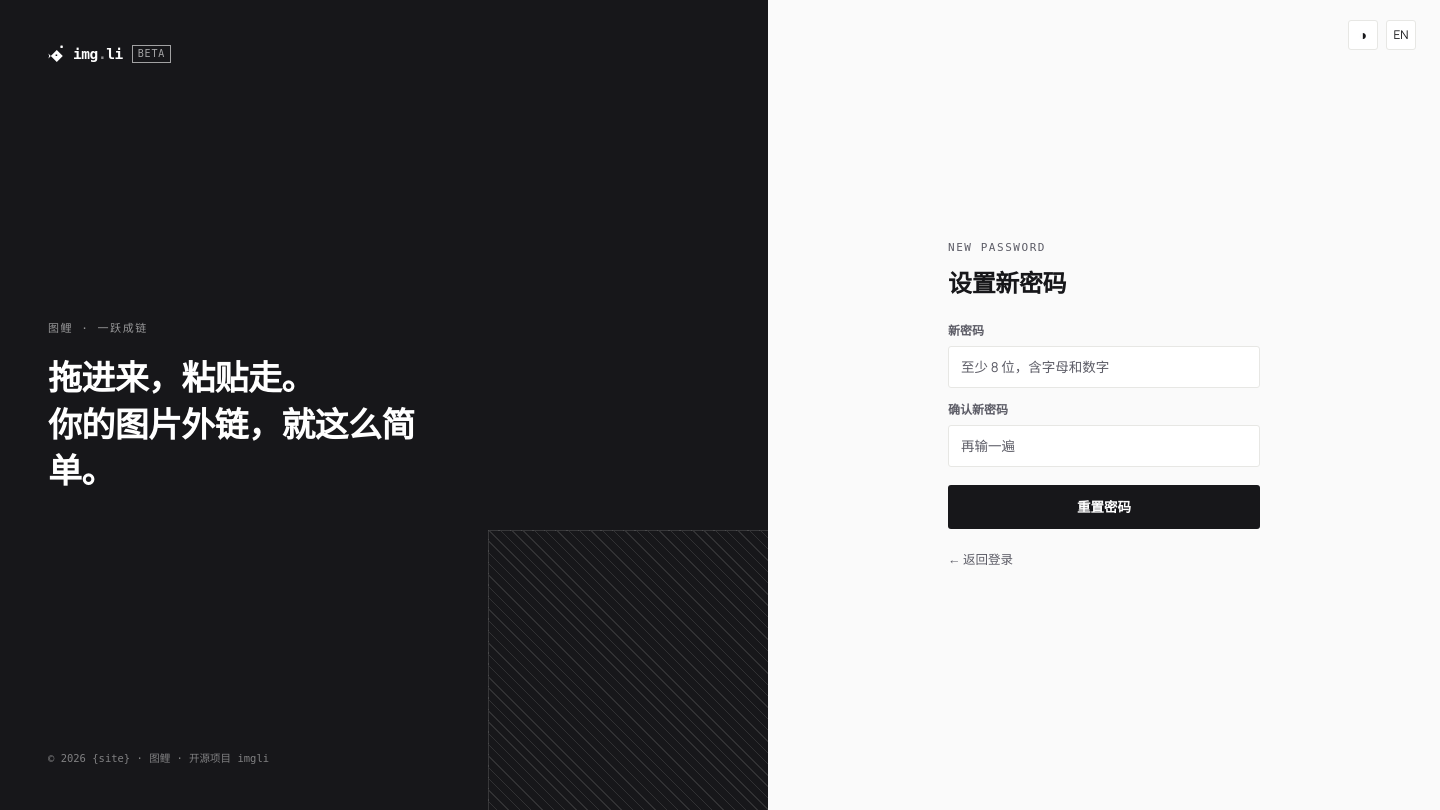
Test: 重置密码:读 token 提交,成功引导去登录
Type "newpass-111" into the password field labelled "新密码" at (1104, 367), box [948, 346, 1260, 388]
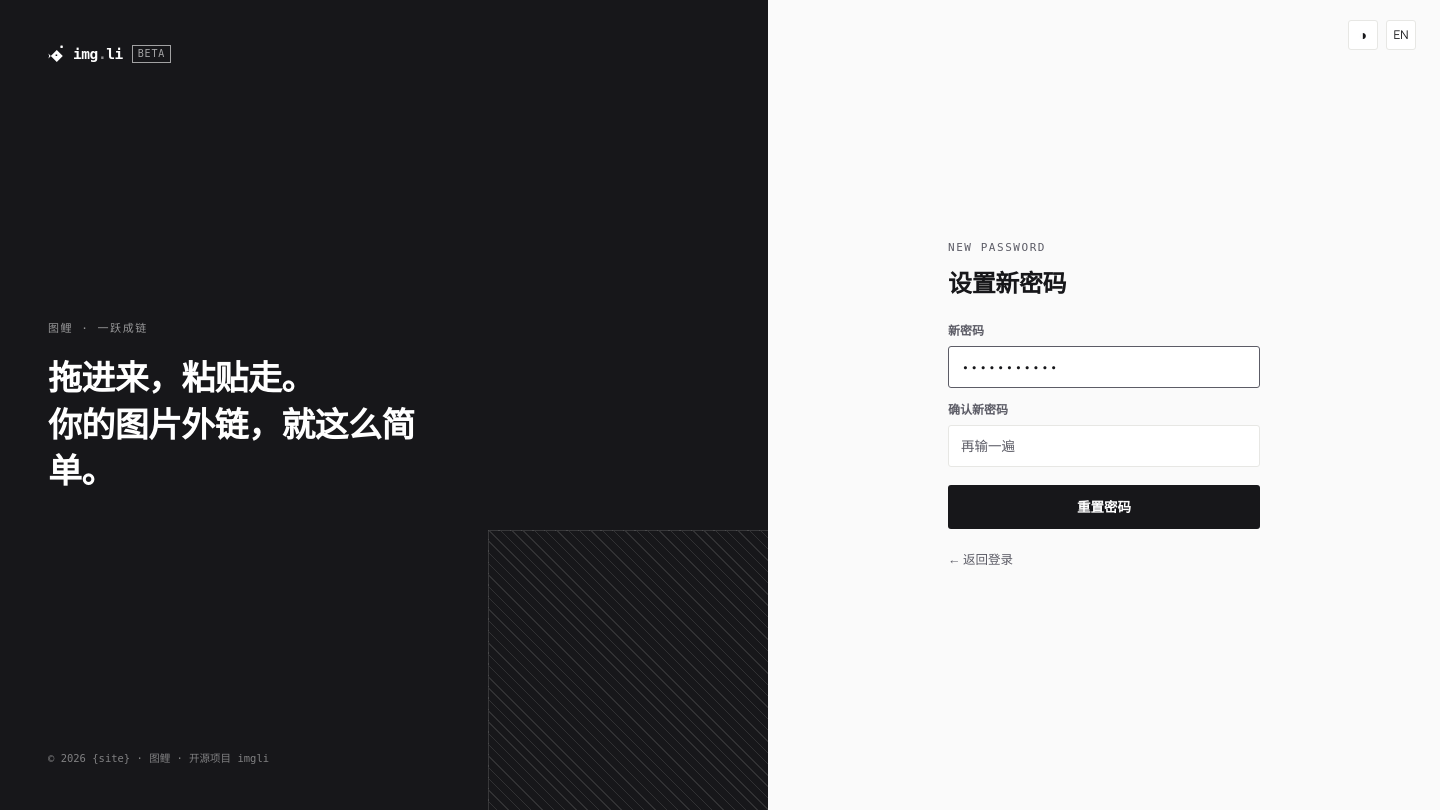
Type "newpass-111" into the password field labelled "确认新密码" at (1104, 446), box [948, 425, 1260, 467]
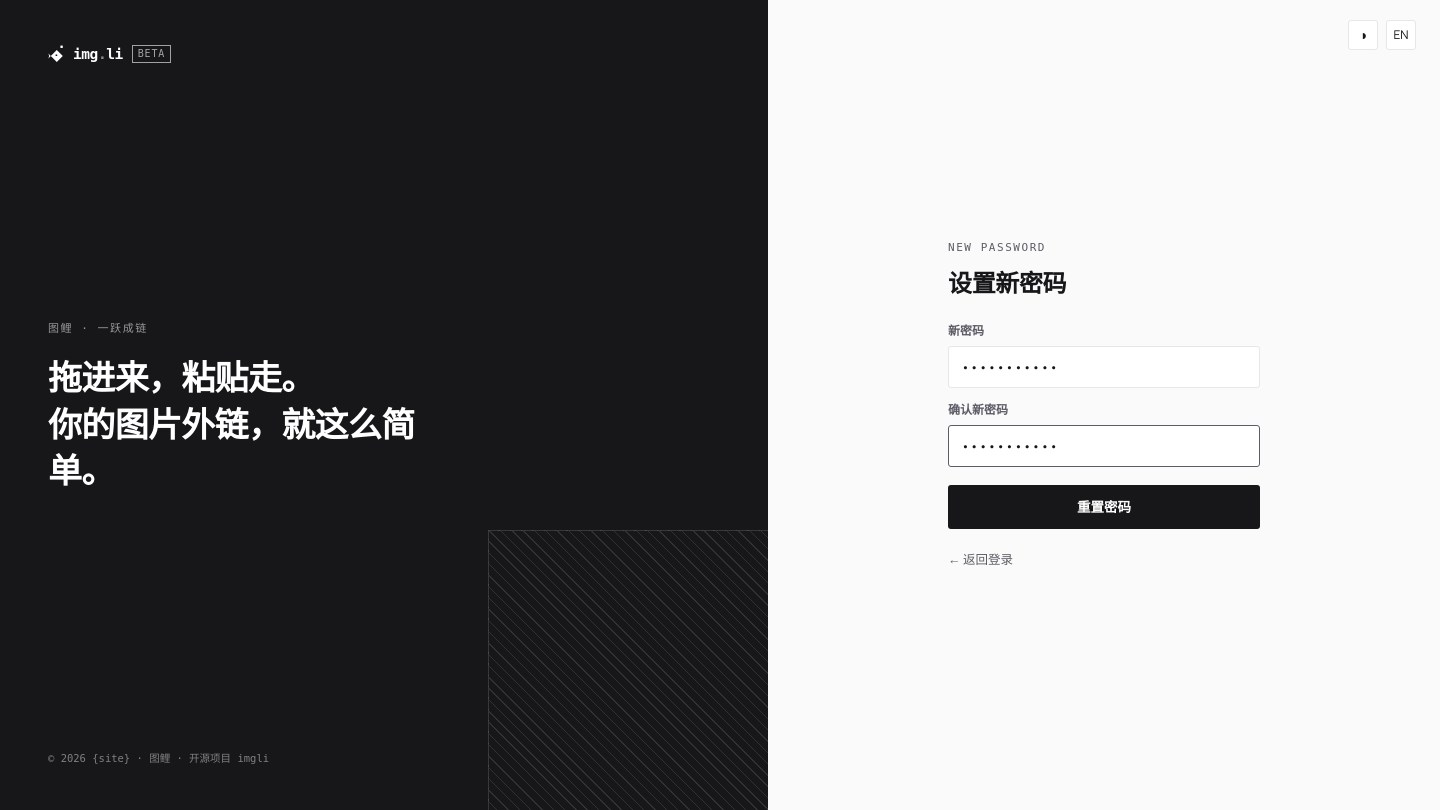
Click the button "重置密码" at (1104, 507), box [948, 485, 1260, 529]
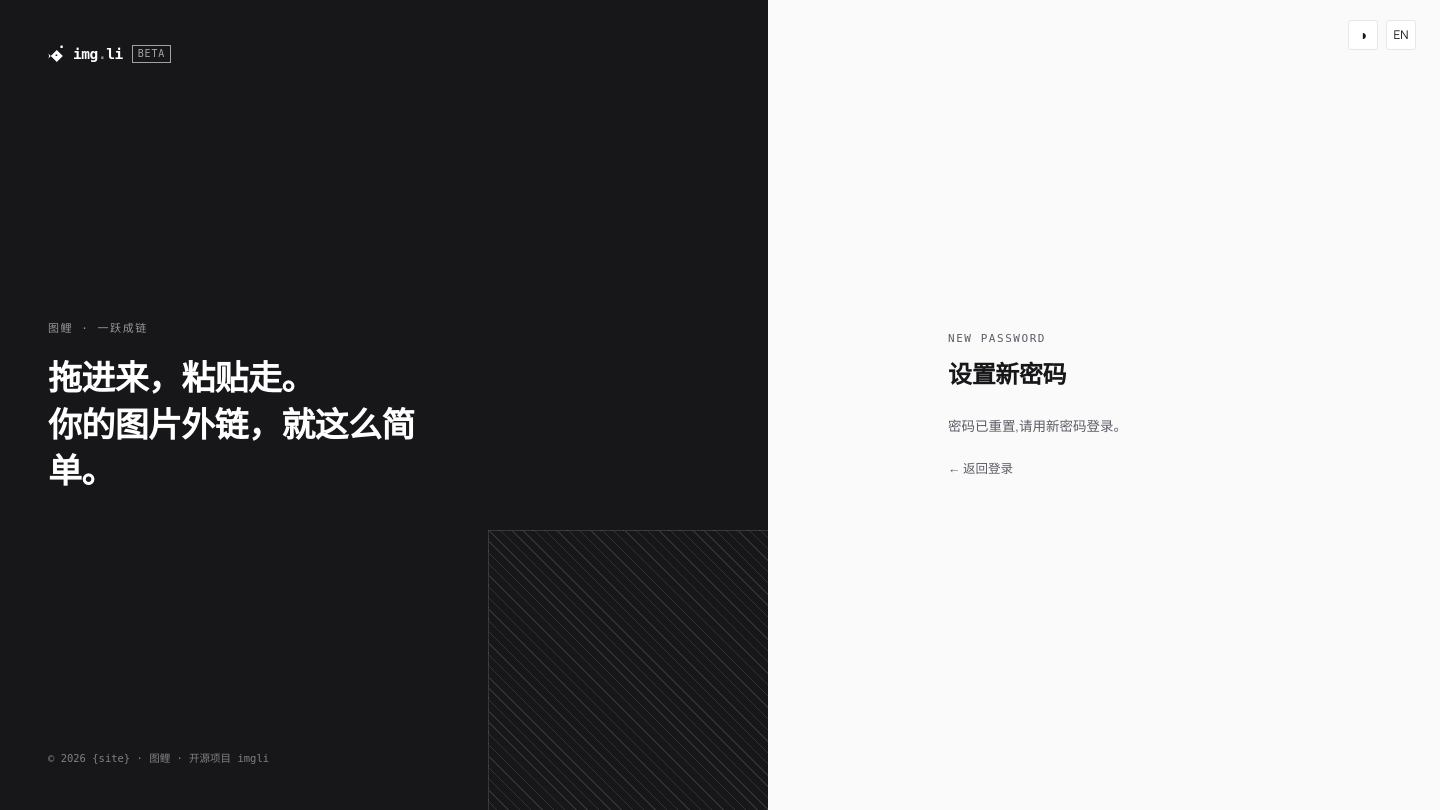
Result: the text "密码已重置,请用新密码登录。" is shown at [948, 417, 1127, 435]
